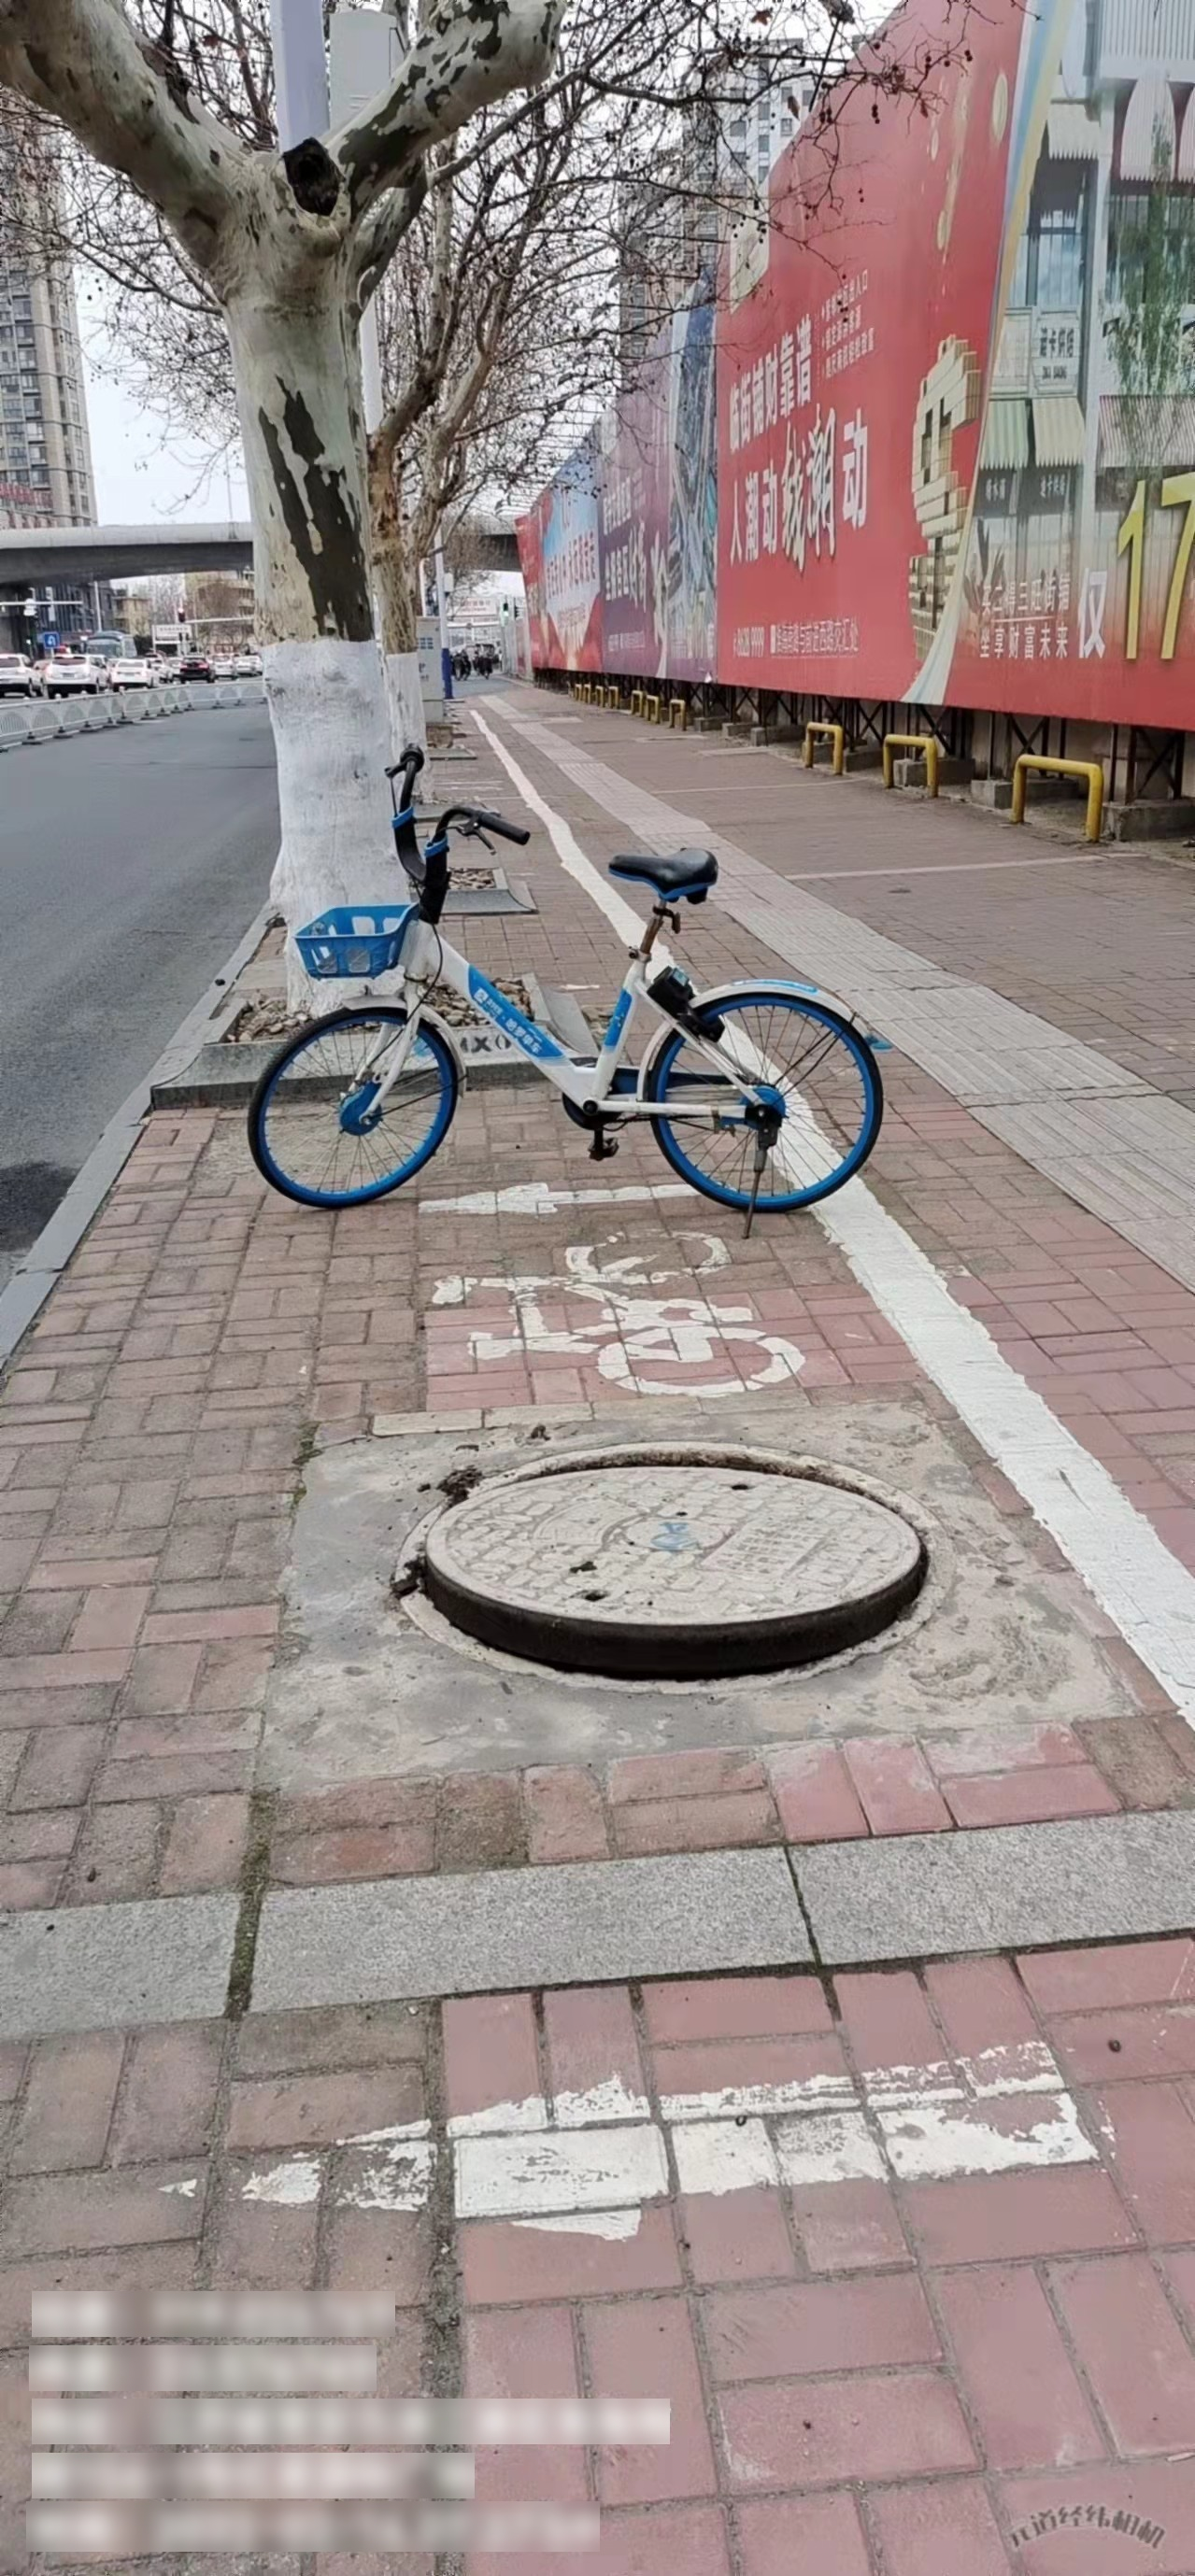uncovered: (394, 1442, 953, 1705)
